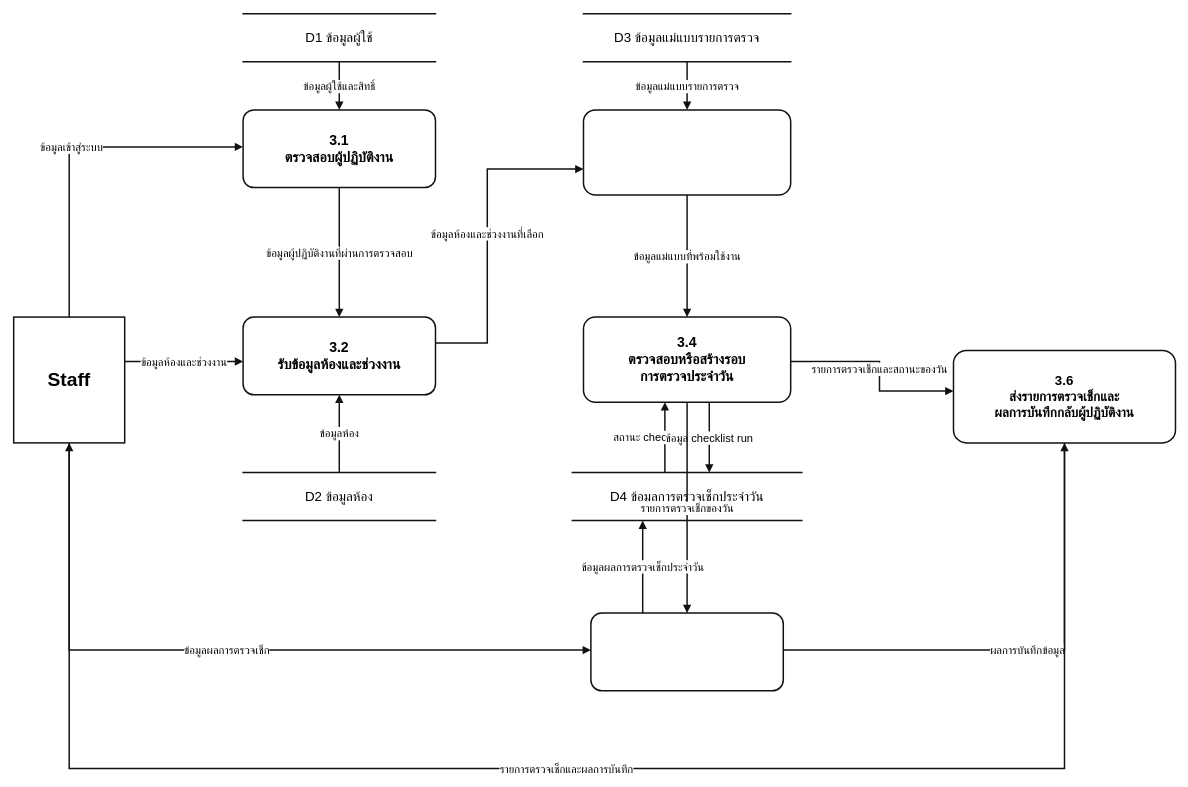
The diagram is 1188 pixels wide and 787 high, and some of its shapes have lost their labels. The centre of each missing label's shape, as x and y in pixels:
3.3 ค้นหาแม่แบบรายการตรวจ ที่พร้อมใช้งาน: [686,152]
3.5 บันทึกผลการตรวจเช็ก: [687,651]
